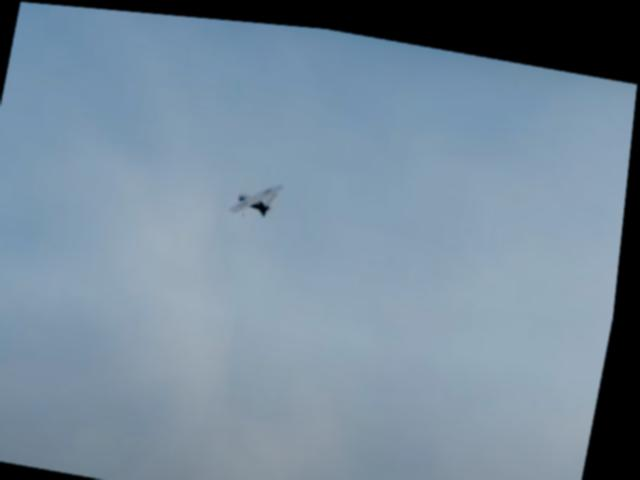uav: (225, 161, 294, 226)
